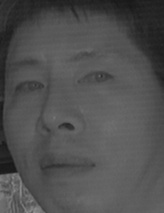eye: (77, 67, 115, 90), (13, 77, 45, 100)
mouth: (36, 148, 97, 180)
